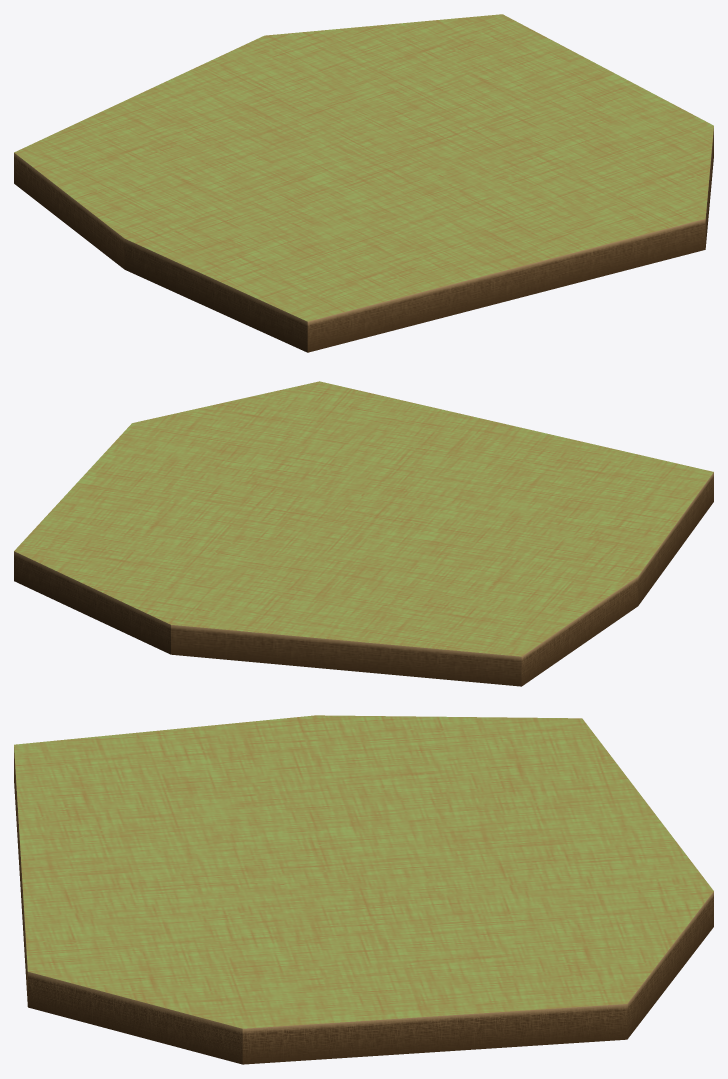
The model's file is Terrain03_D.FBX.
3 views of the same model, one above another, from view 1: azimuth 30°, elevation 25°; view 2: azimuth 150°, elevation 25°; view 3: azimuth 270°, elevation 25° (orthographic). The views are drawn at different scales.
Parts seen in each view (by area): view 1: Terrain03_D; view 2: Terrain03_D; view 3: Terrain03_D.
Part boxes in pixels (x1,y1,x2,y2): Terrain03_D: [14, 14, 713, 352]; Terrain03_D: [14, 381, 713, 686]; Terrain03_D: [14, 715, 713, 1064].
Bounding box in the file's own units: 945 × 50.36 × 892.
Materials: 1 (1 with a texture image).
